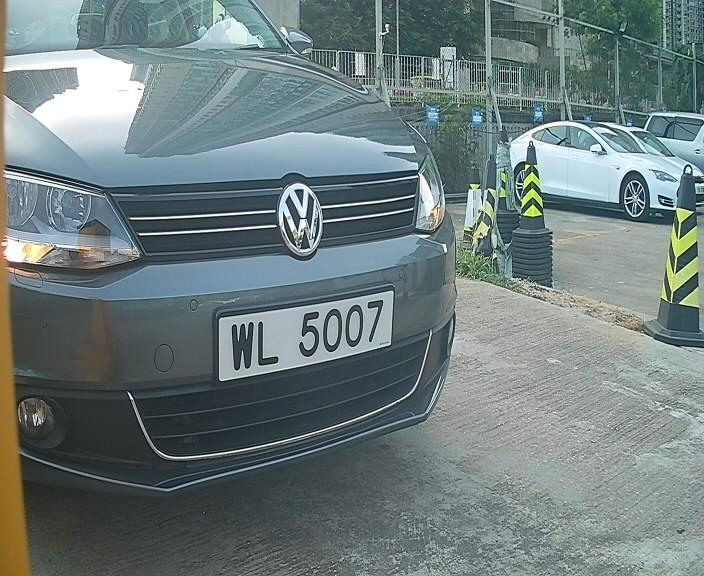privatecar: (1, 16, 485, 494)
